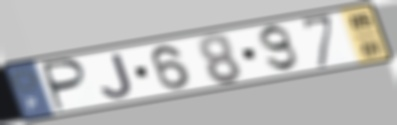6: (149, 42, 193, 91)
7: (300, 13, 338, 70)
8: (198, 32, 243, 86)
9: (257, 24, 301, 74)
J: (99, 51, 136, 100)
P: (41, 57, 91, 114)
